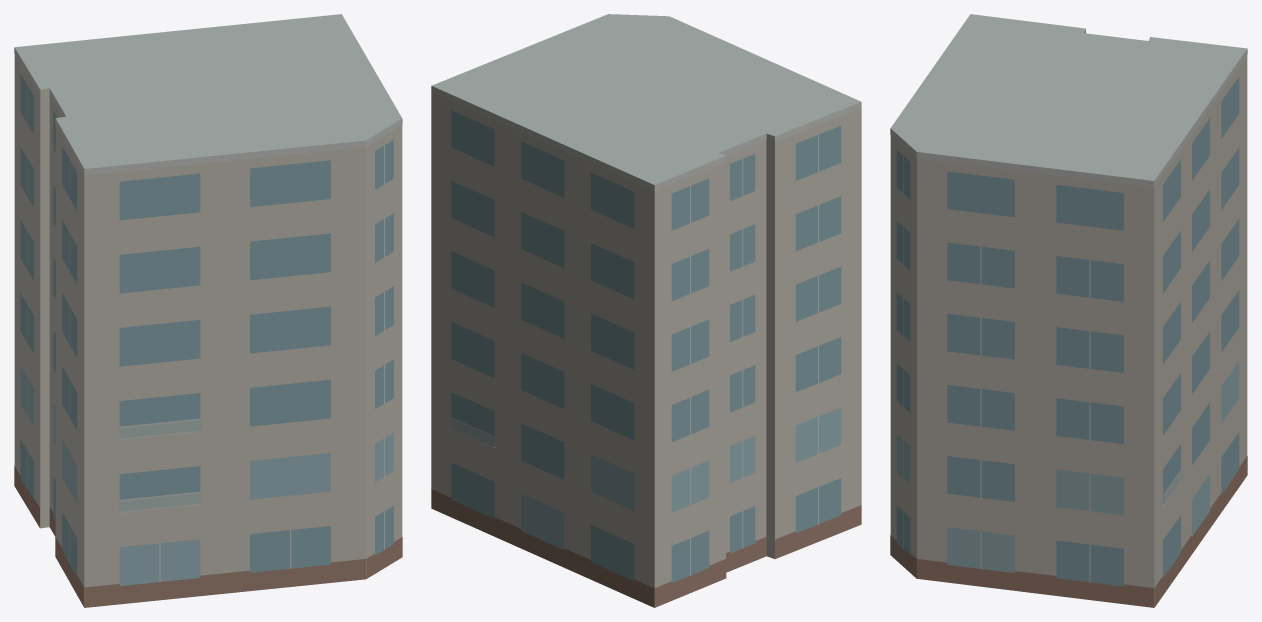
File: survey-upis-32939397.glb
3 views of the same model, side by side, from view 1: azimuth 30°, elevation 25°; view 2: azimuth 150°, elevation 25°; view 3: azimuth 270°, elevation 25° (orthographic). The views are drawn at different scales.
Parts seen in each view (by area): view 1: survey-upis-32939397.tmp; view 2: survey-upis-32939397.tmp; view 3: survey-upis-32939397.tmp.
Boxes of the visible parts, box(x1,y1,x2,y2) form: survey-upis-32939397.tmp: box(14, 14, 402, 607); survey-upis-32939397.tmp: box(431, 14, 861, 607); survey-upis-32939397.tmp: box(890, 14, 1247, 607).
Bounding box in the file's own units: 13.6 × 16.2 × 12.29.
